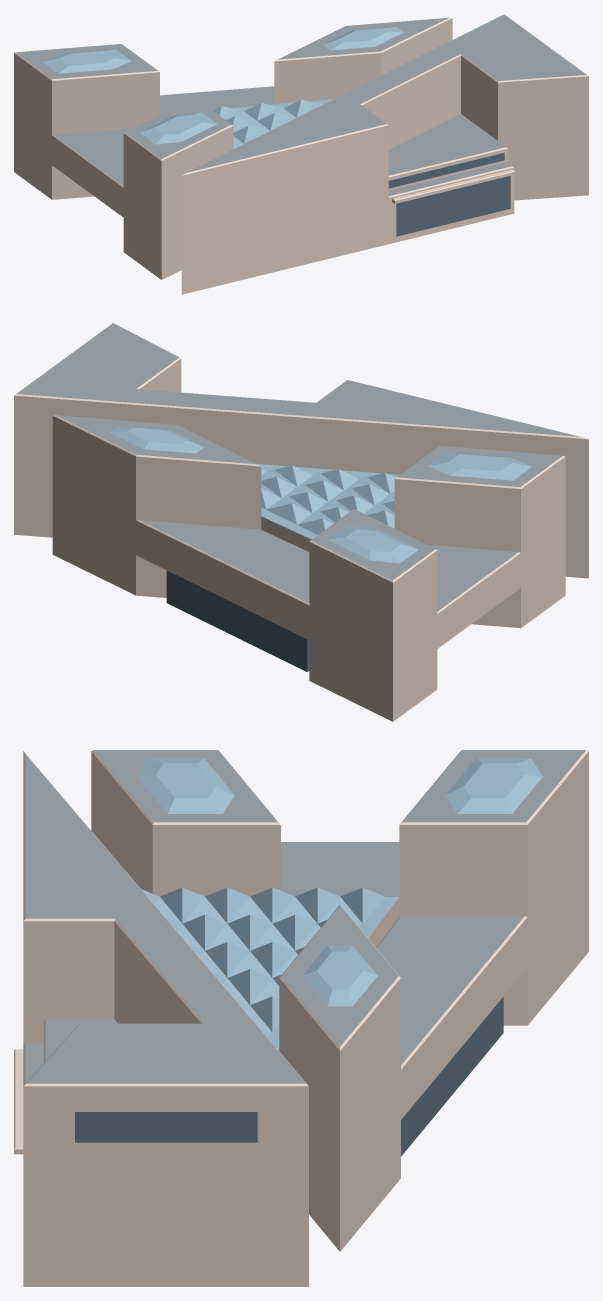
Rendered from dc-nga-east.glb.
The picture shows the model from 3 angles, top to bottom: view 1: azimuth 30°, elevation 25°; view 2: azimuth 150°, elevation 25°; view 3: azimuth 270°, elevation 25°; orthographic projection. The views are drawn at different scales.
Visible parts, largest first — view 1: National Gallery of Art, East Building; view 2: National Gallery of Art, East Building; view 3: National Gallery of Art, East Building.
Part boxes in pixels (x1,y1,x2,y2): National Gallery of Art, East Building: (14,14,588,294); National Gallery of Art, East Building: (14,323,588,721); National Gallery of Art, East Building: (14,750,588,1286).
Bounding box in the file's own units: 117 × 33.9 × 84.9.
